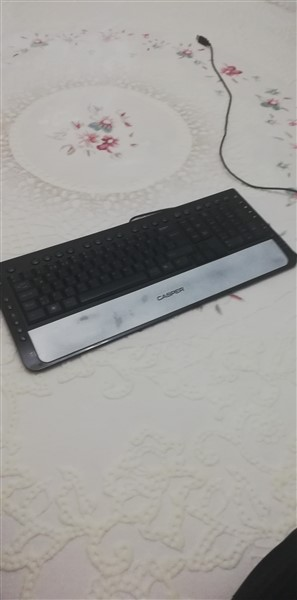klavye: (7, 185, 296, 377)
